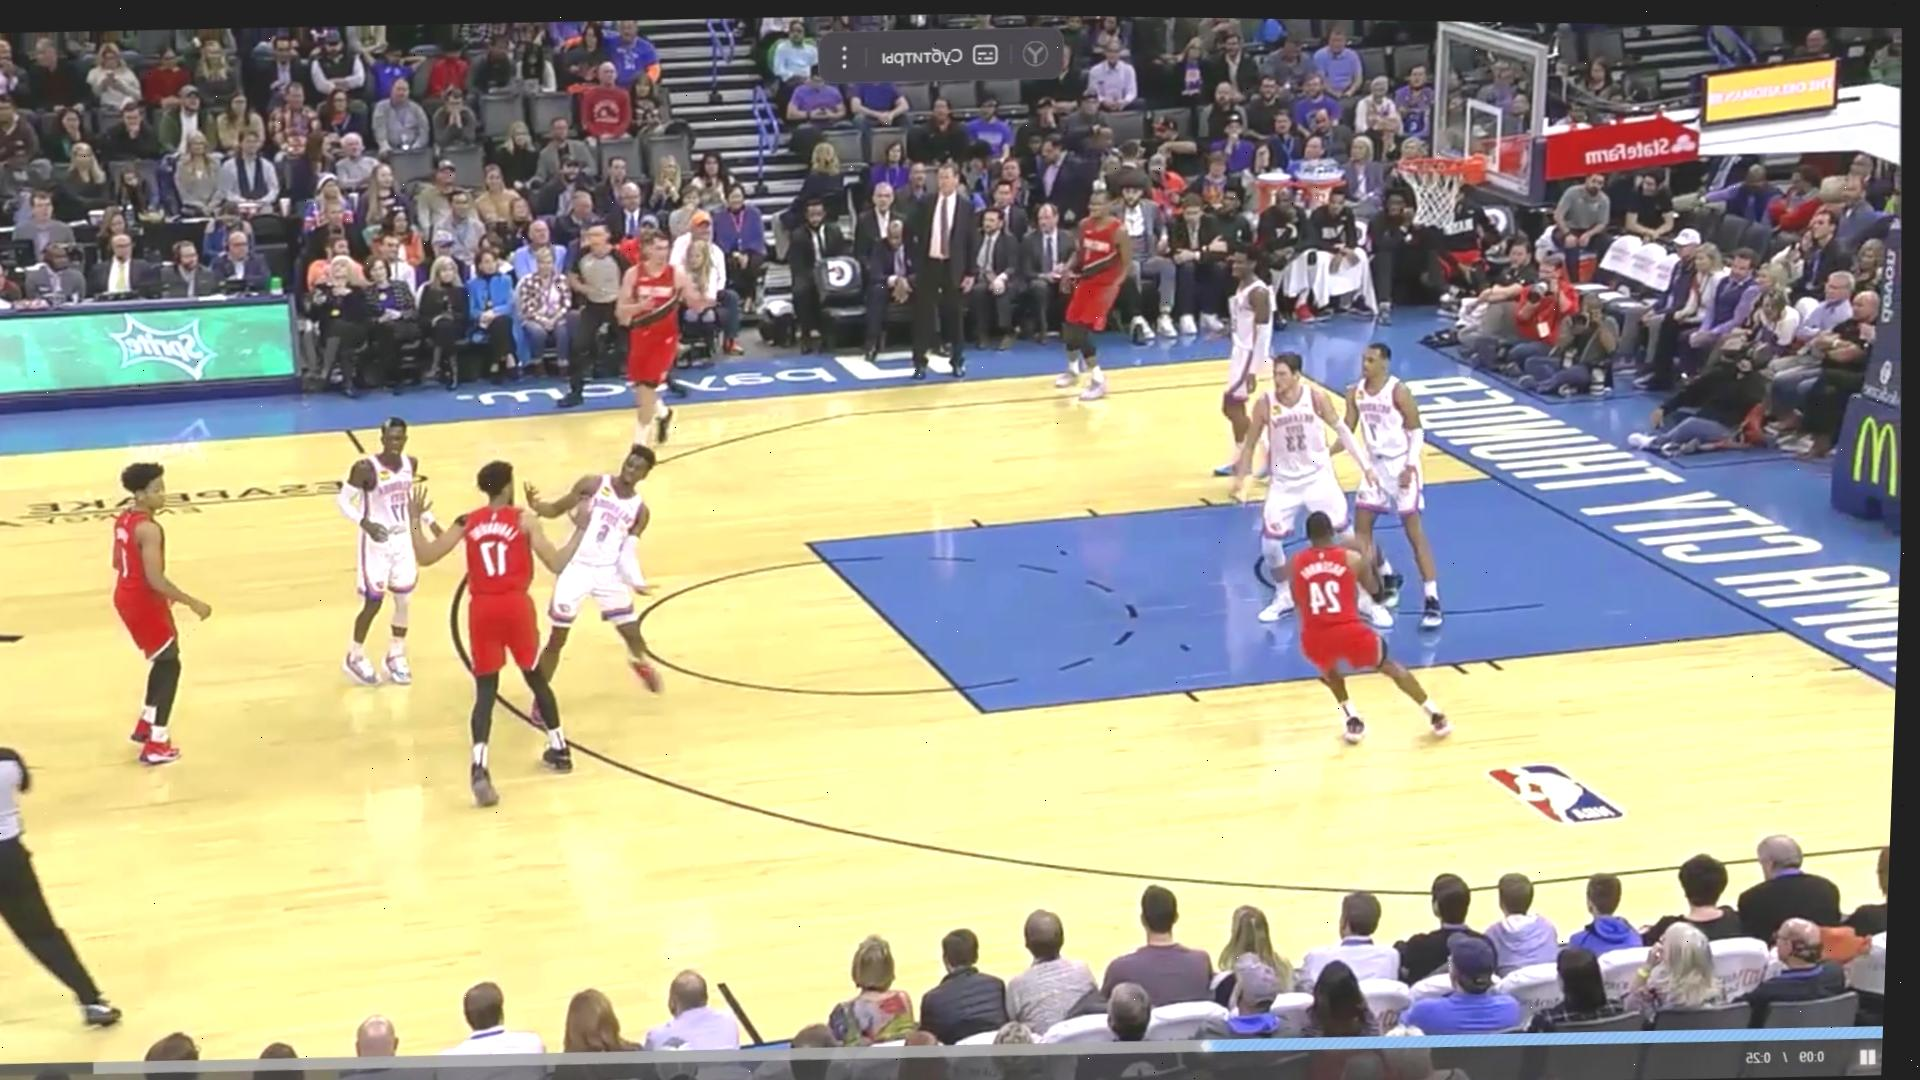no_foul: (433, 429, 696, 806)
